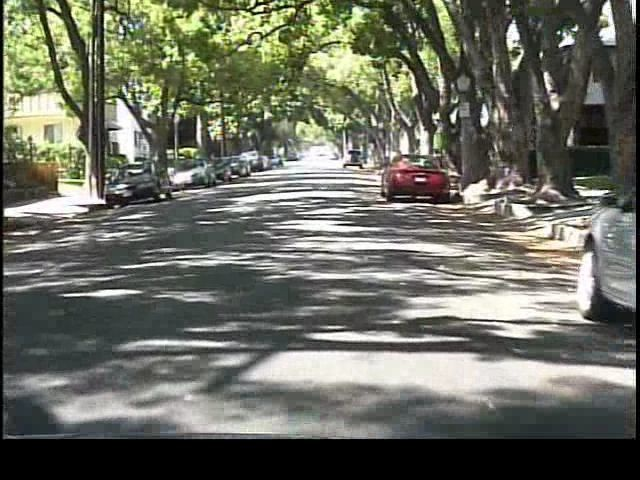person: (147, 146, 167, 188)
